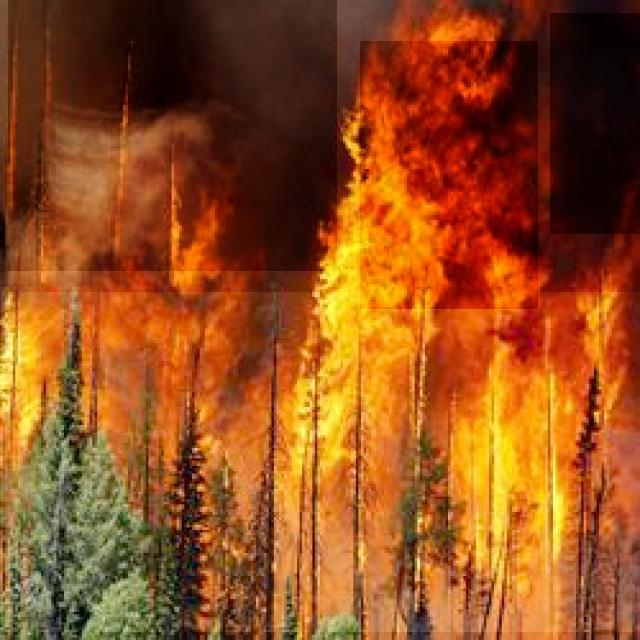Fire: (1, 292, 640, 632), (360, 41, 538, 309)
Smoke: (8, 0, 337, 271), (550, 13, 640, 234)
